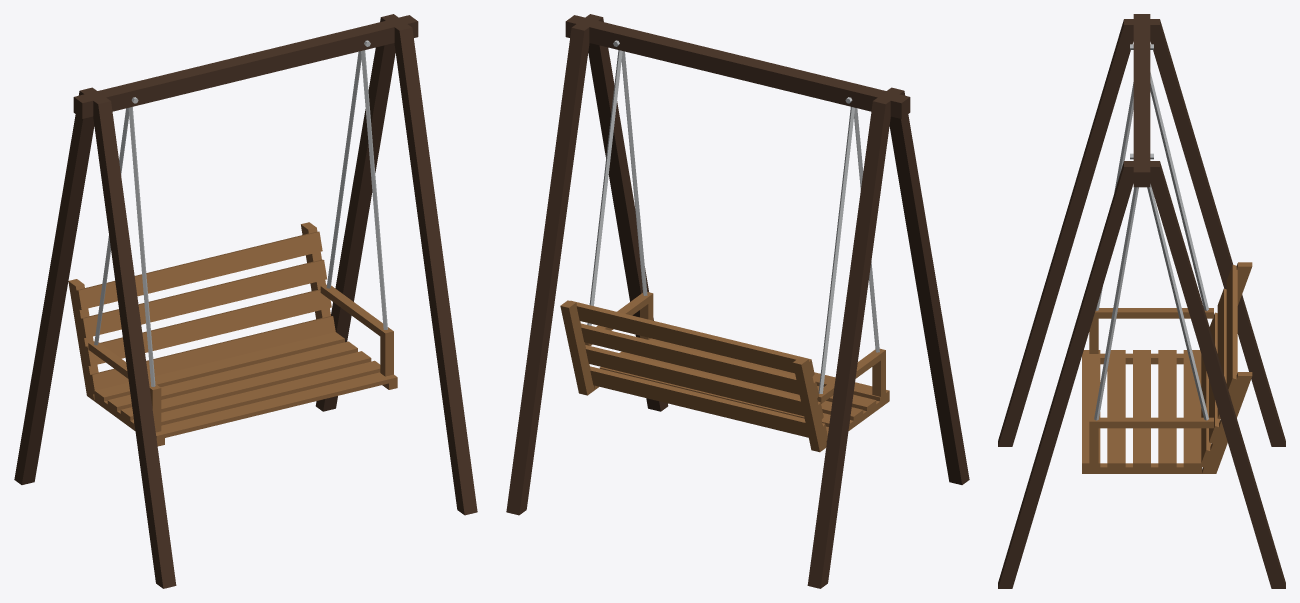
Rendered from FN_Swing_Garden.glb.
3 views of the same model, side by side, from view 1: azimuth 30°, elevation 25°; view 2: azimuth 150°, elevation 25°; view 3: azimuth 270°, elevation 25° (orthographic). The views are drawn at different scales.
Parts seen in each view (by area): view 1: FN_Swing_Garden; view 2: FN_Swing_Garden; view 3: FN_Swing_Garden.
Part boxes in pixels (x1,y1,x2,y2): FN_Swing_Garden: (14, 14, 477, 588); FN_Swing_Garden: (506, 14, 969, 588); FN_Swing_Garden: (998, 14, 1285, 588).
Size of the model in its own units: 1.56 by 1.94 by 1.2.
Materials: 1 (1 with a texture image).
